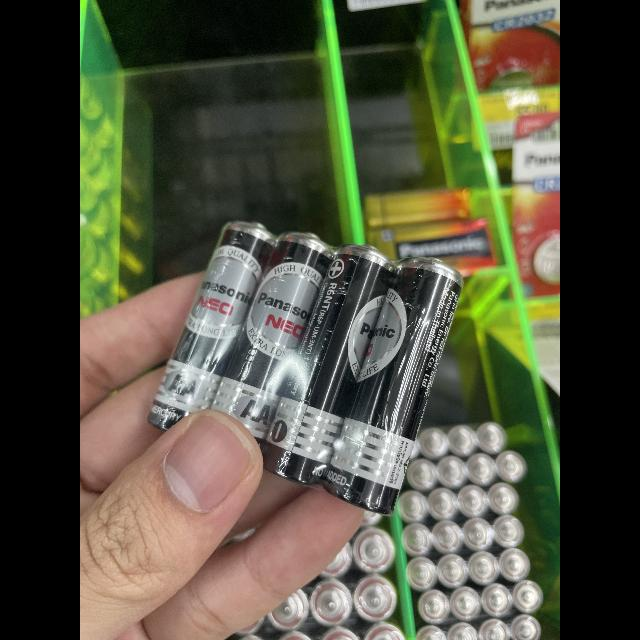battery: (263, 238, 401, 488), (209, 226, 335, 444), (158, 212, 274, 426)
